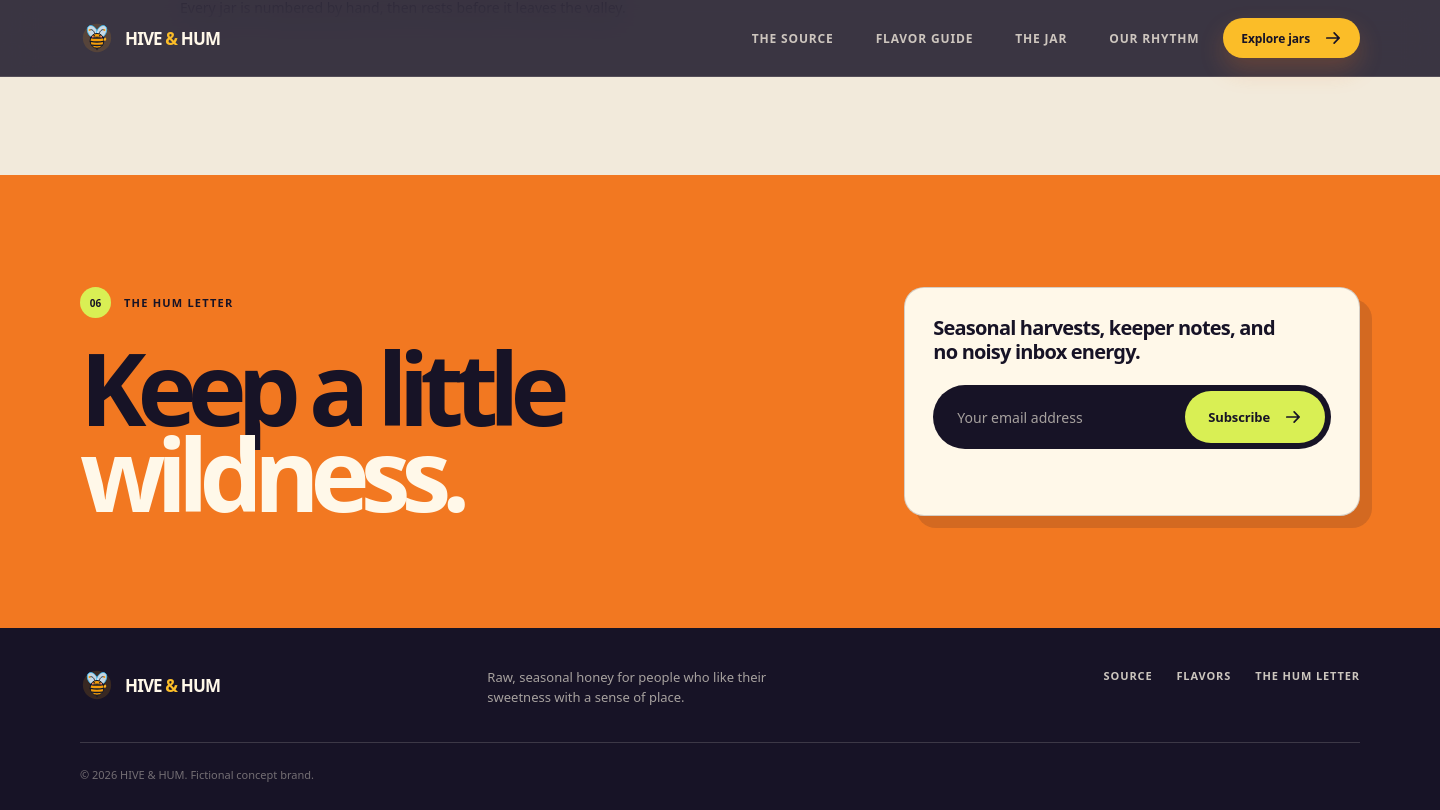
HIVE & HUM editorial landing page contract › handles malformed newsletter submission with clear guidance
(page scrolled)
In the field with placeholder "Your email address": (1058, 417) [939, 391, 1177, 443], type "not-an-email"
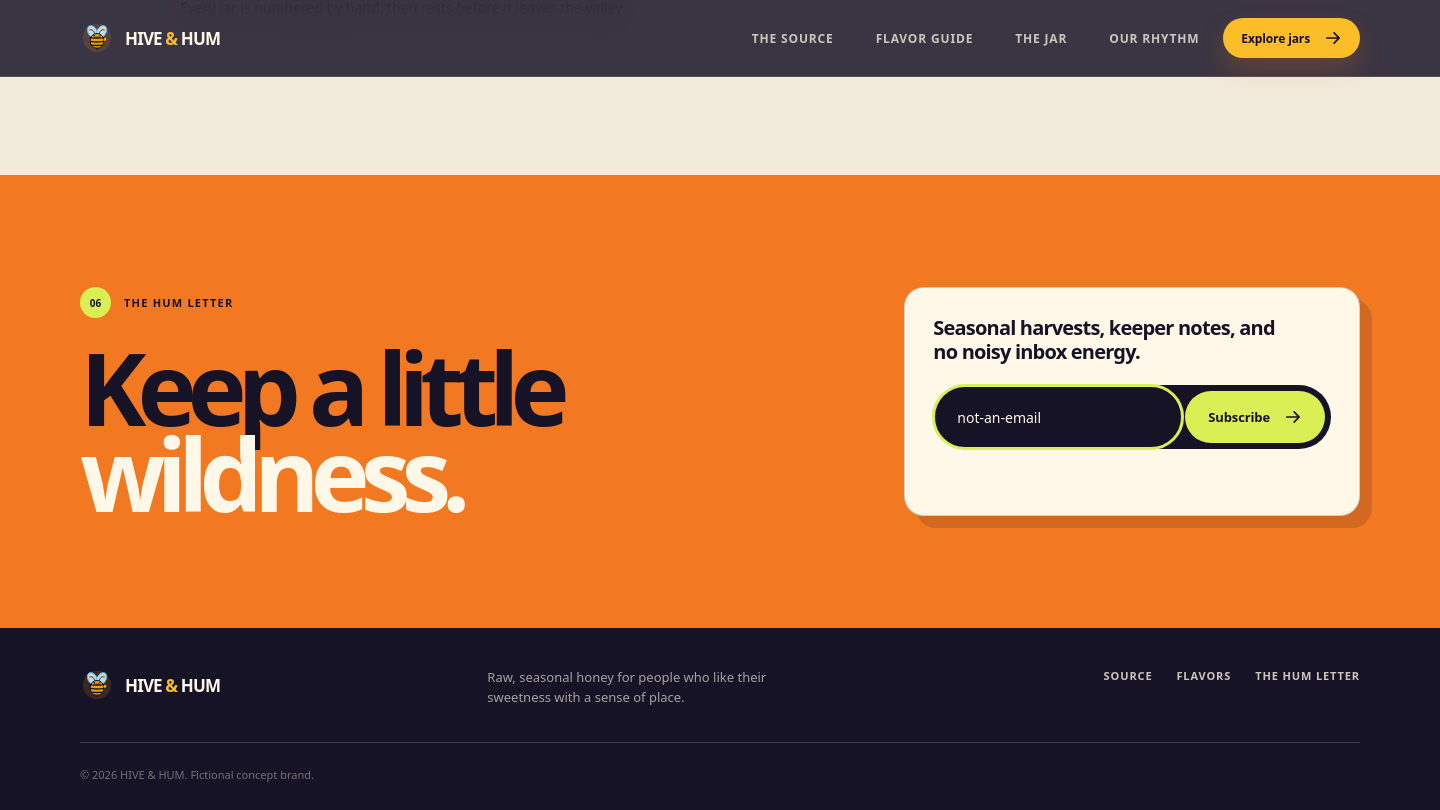
Click the button "Subscribe": (1255, 417) [1185, 391, 1325, 443]
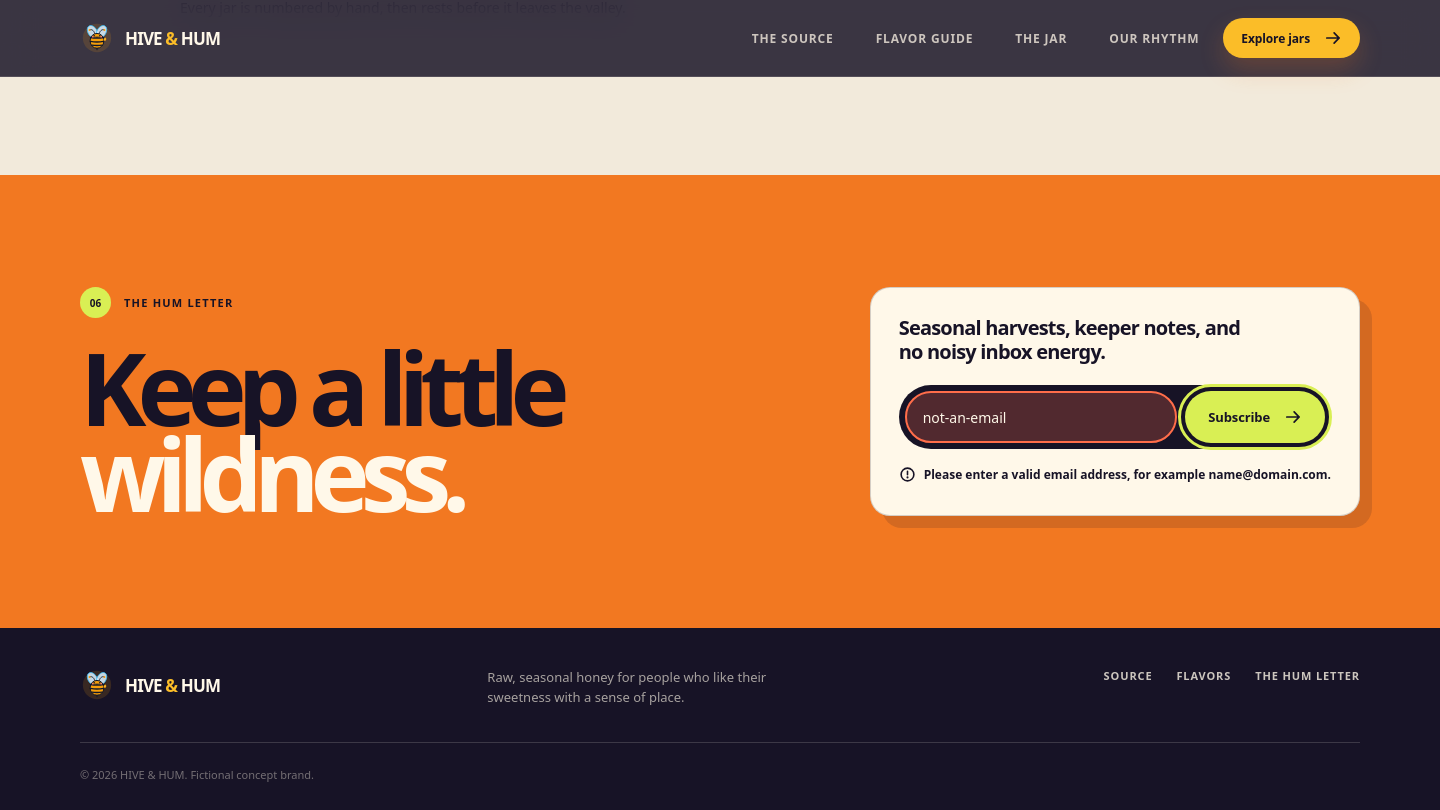
Now the message shows "Please enter a valid email address", box [924, 466, 1331, 483]
